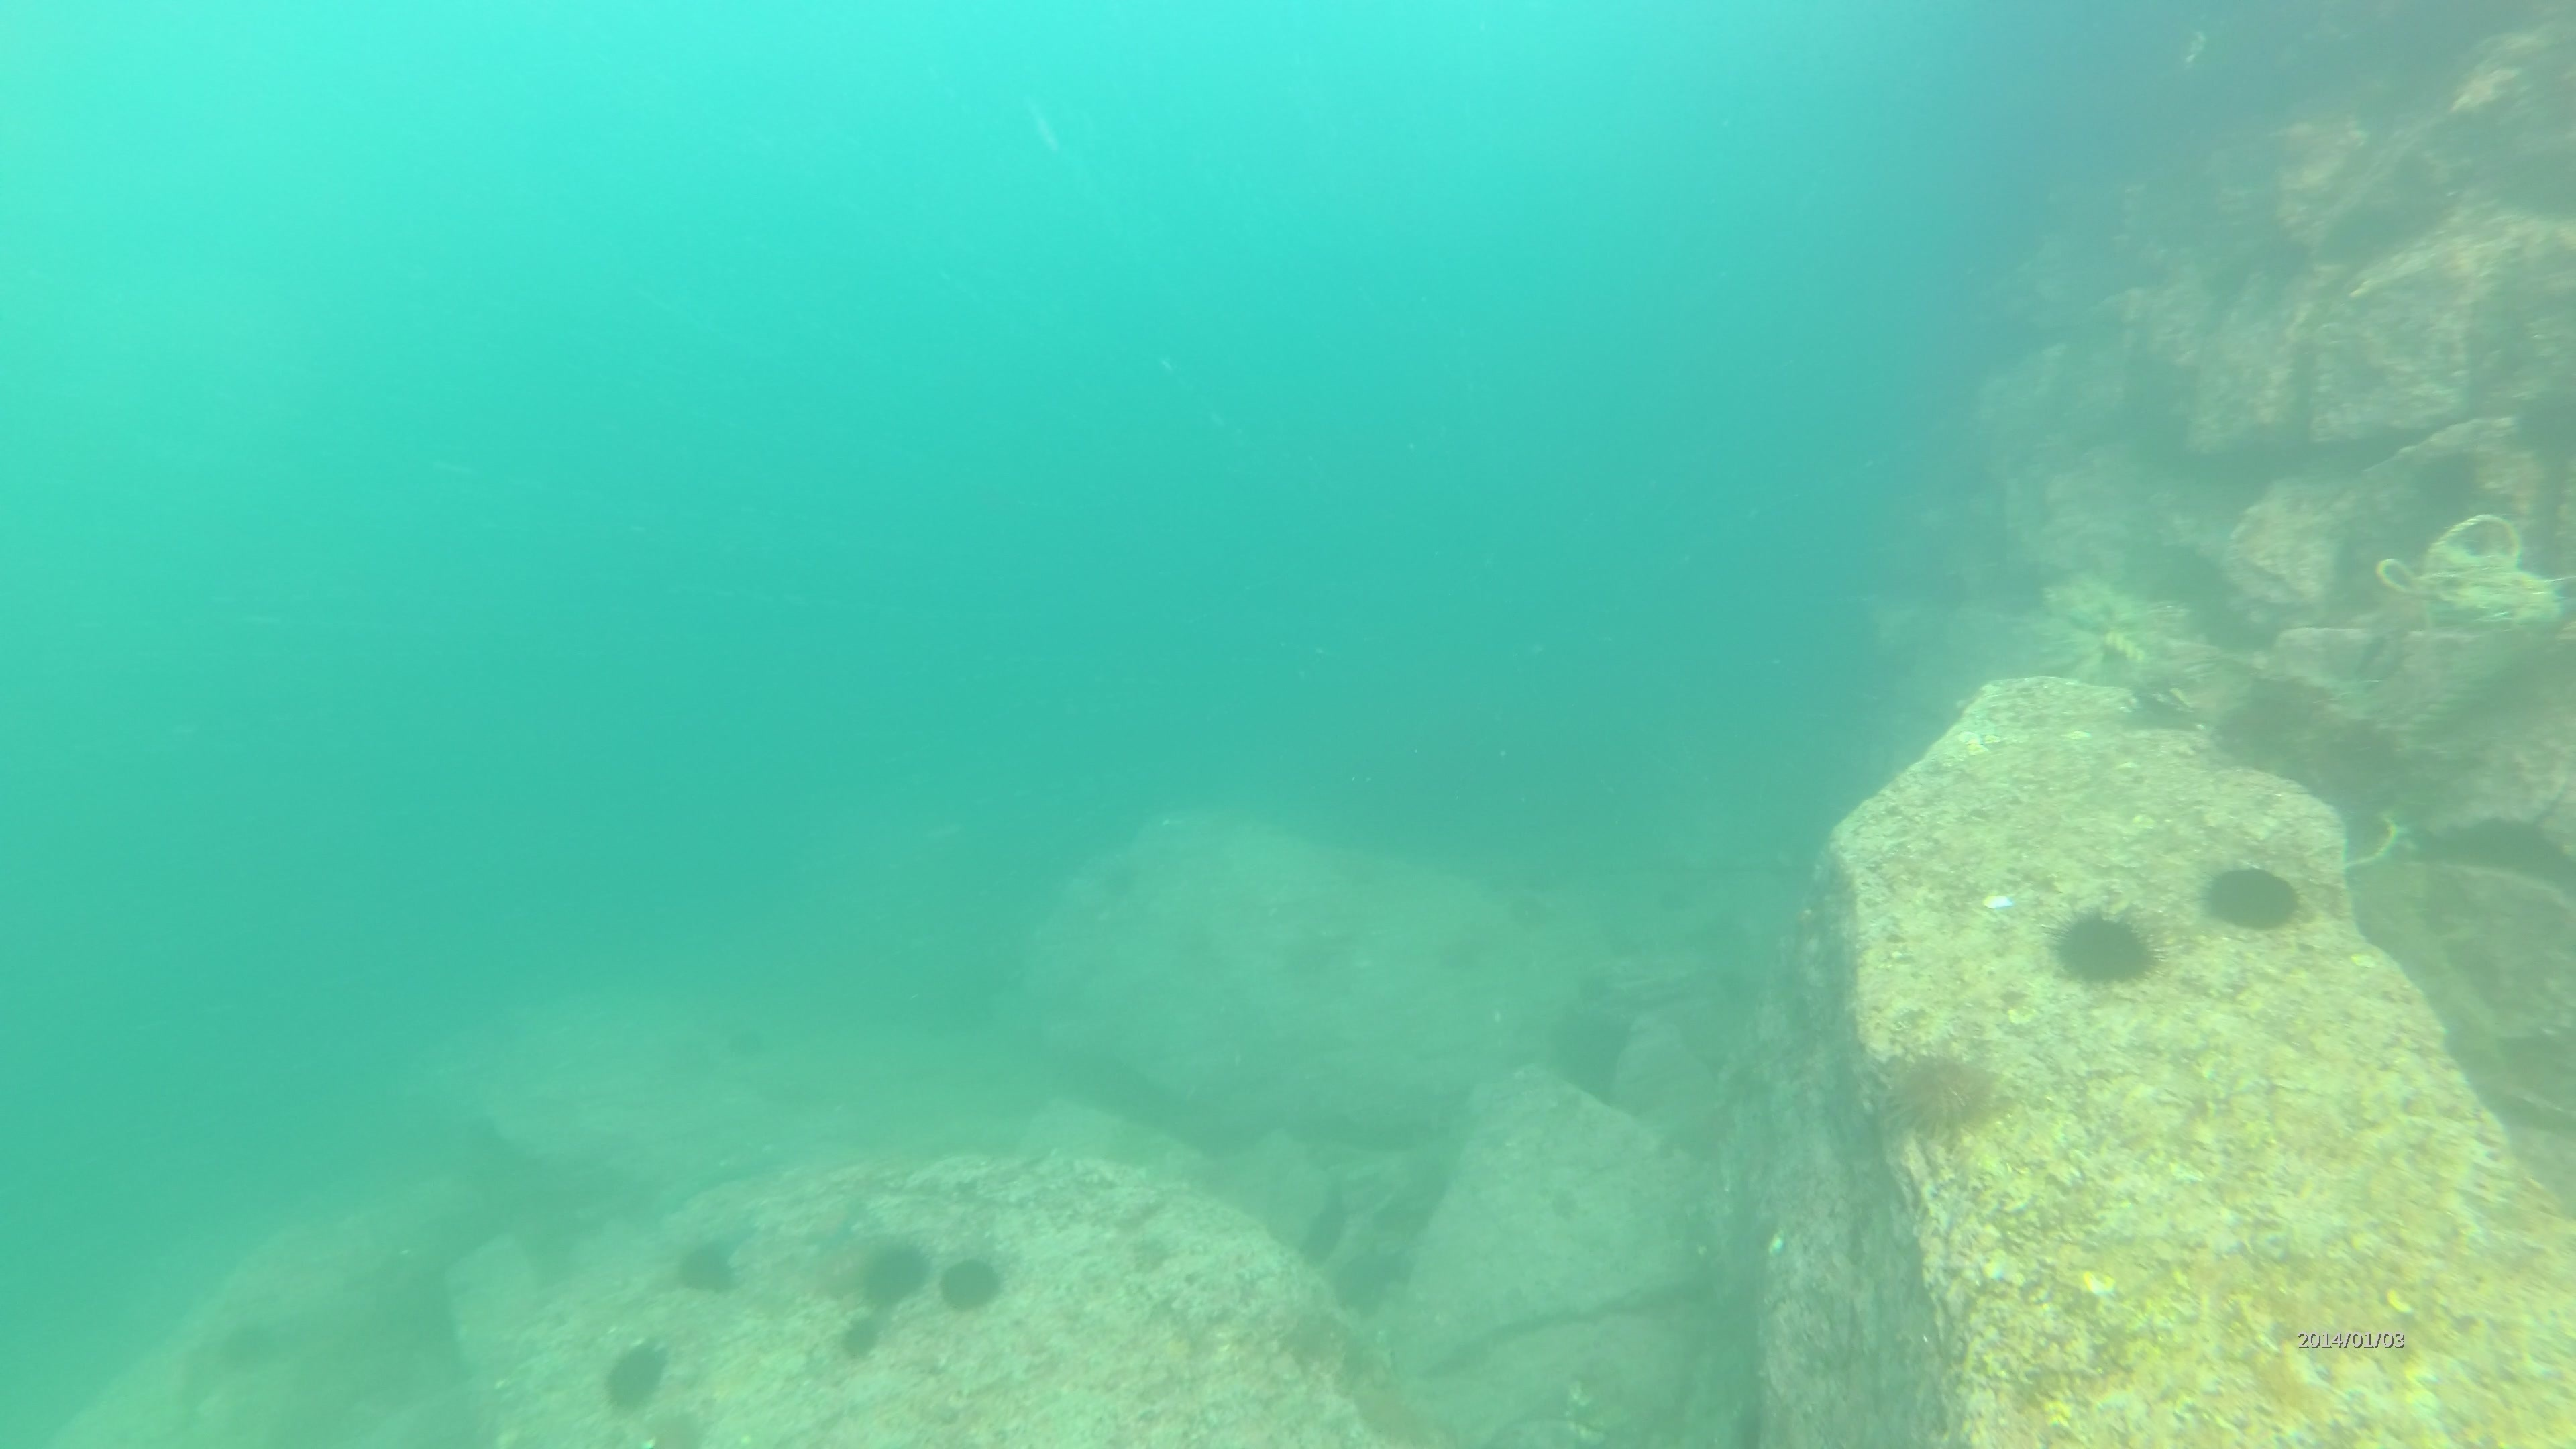echinus: (1877, 1039, 2006, 1146), (2045, 897, 2162, 996), (2215, 669, 2325, 770), (2197, 855, 2307, 941), (2404, 442, 2493, 527), (849, 1230, 934, 1315), (2505, 377, 2576, 474), (596, 1334, 674, 1419), (934, 1246, 1010, 1320), (667, 1230, 745, 1302), (833, 1311, 886, 1364)
